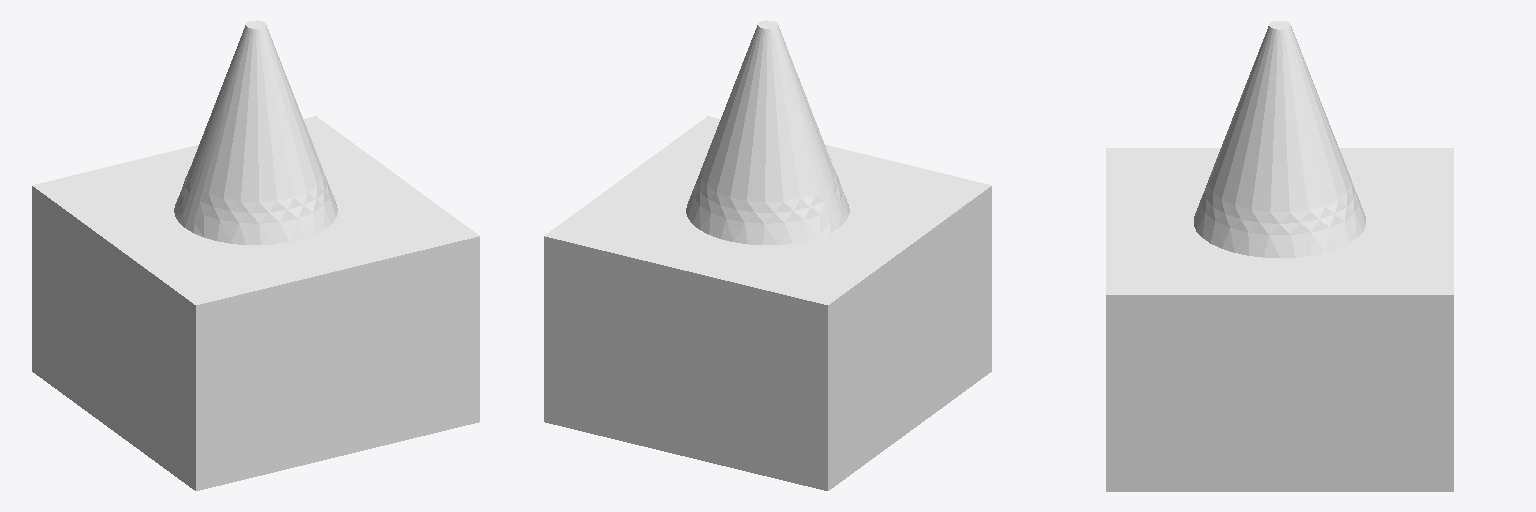
robot.urdf — cone:
<robot name="cone">
	<link name="_name">
		<visual>
			<origin rpy="0 0 0" xyz="1.6356746780701403e-07 1.0883963112052658e-14 -0.006171390164247558" />
			<geometry>
				<mesh filename="cone.obj" scale=".001 .001 .001" />
			</geometry>
			<material name="texture">
				<color rgba="1.0 1.0 1.0 1.0" />
			</material>
		</visual>
		<collision>
			<geometry>
				<mesh filename="cone_vhacd.obj" scale=".001 .001 .001" />
			</geometry>
		<origin rpy="0 0 0" xyz="1.6356746780701403e-07 1.0883963112052658e-14 -0.006171390164247558" /></collision>
		<inertial>
			<mass value="1.0" />
			<inertia ixx="1.0" ixy="0.0" ixz="0.0" iyy="1.0" iyz="0.0" izz="1.0" />
		</inertial>
	</link>
</robot>

--- Facts derived from the render (not from the file) ---
3 views of the same robot in one strip: view 1: azimuth 30°, elevation 25°; view 2: azimuth 150°, elevation 25°; view 3: azimuth 270°, elevation 25° (orthographic).
Model cone with 1 links and 0 joints (none), rooted at _name, posed every joint at zero.
Visible links, largest first — view 1: _name; view 2: _name; view 3: _name.
Link boxes in pixels (x1,y1,x2,y2): _name: [32, 20, 479, 490]; _name: [544, 20, 991, 490]; _name: [1106, 21, 1453, 491].
Bounding box of the posed robot: 0.016 × 0.016 × 0.02 m (x, y, z).
1 mesh visuals loaded from 1 distinct referenced files (1 OBJ).